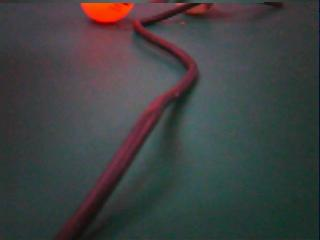oball: (80, 1, 134, 24)
